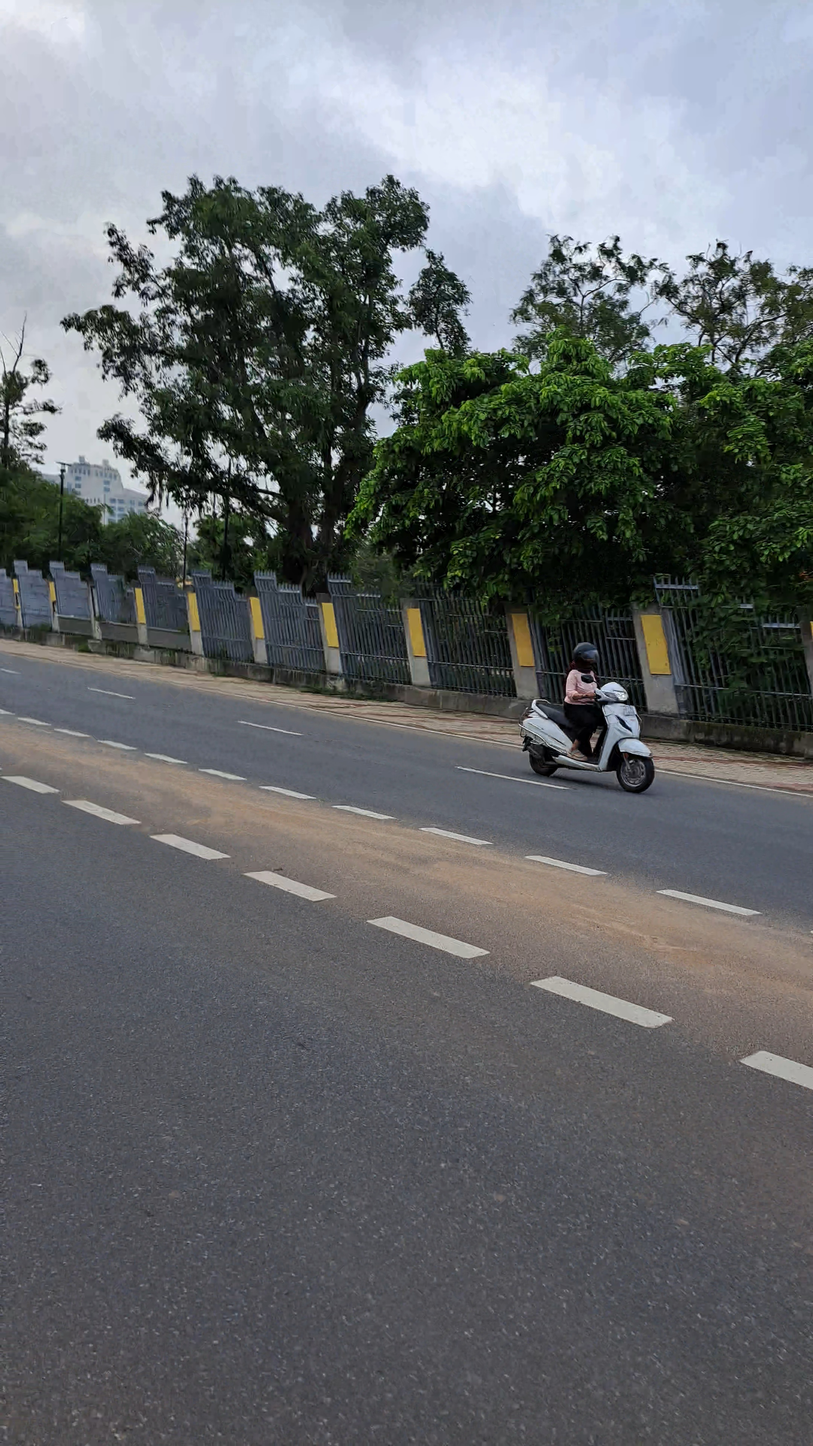BikeWithRider: (513, 632, 660, 796)
Helmet: (569, 640, 601, 673)
